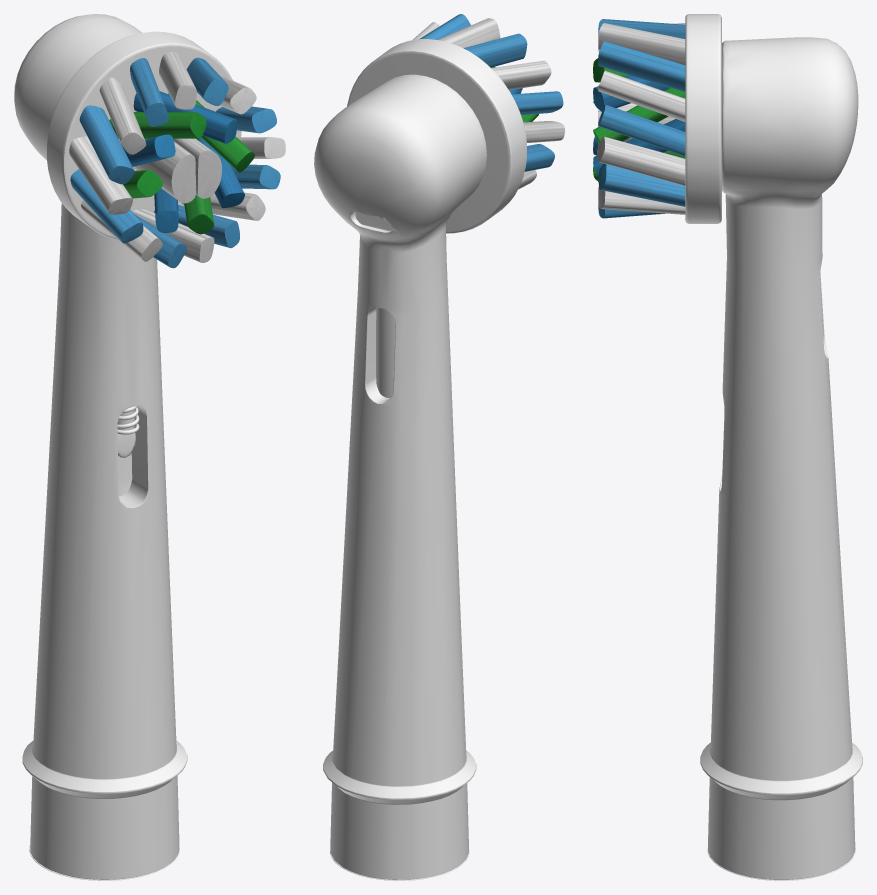
Rendered from oral-b_toothbrush_head.glb.
The picture shows the model from 3 angles, left to right: view 1: azimuth 30°, elevation 25°; view 2: azimuth 150°, elevation 25°; view 3: azimuth 270°, elevation 25°; orthographic projection. The views are drawn at different scales.
Visible parts, largest first — view 1: Object_6; view 2: Object_6; view 3: Object_6.
Boxes of the visible parts, x1,y1,x2,y2 form: Object_6: [14, 14, 285, 880]; Object_6: [314, 14, 564, 880]; Object_6: [593, 14, 862, 880].
Size of the model in its own units: 1.6 by 7.17 by 2.11.
1 material, 1 textured.
